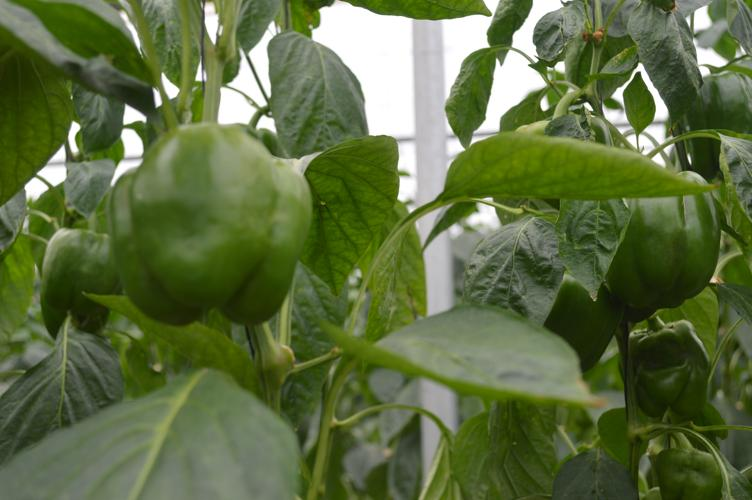BellPepper: (107, 111, 307, 326), (600, 167, 720, 309), (30, 218, 130, 344), (625, 310, 728, 431), (531, 262, 621, 378), (650, 438, 722, 500)
